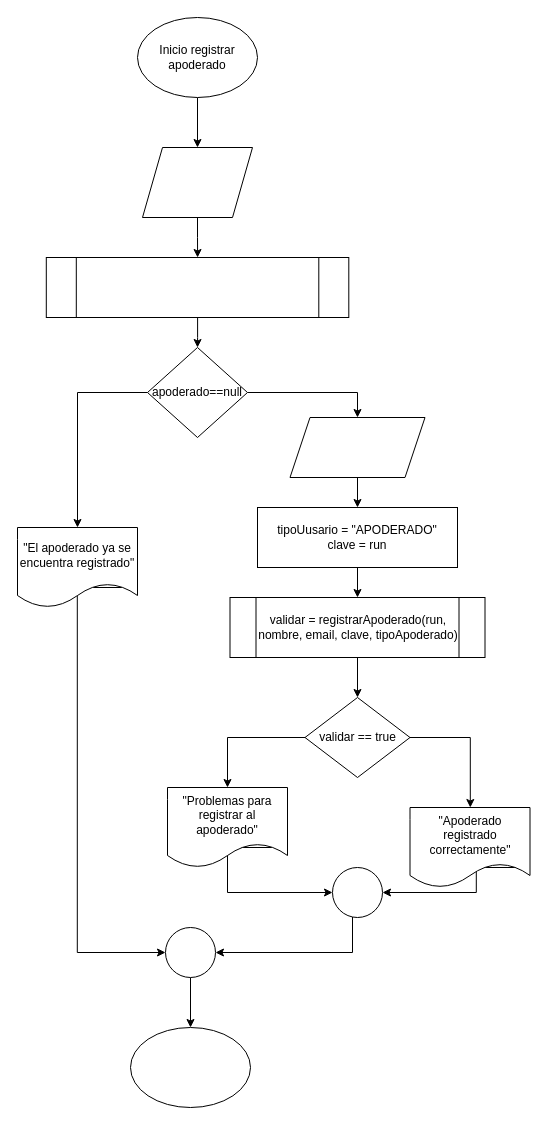
The diagram is 556 pixels wide and 1125 high, and some of its shapes have lost their labels. The shapes that lost their labels are listed below. From the top down, each one's centre as x and y in pixels, then its label:
At (x=197, y=182): "runApoderado".
At (x=197, y=287): "apoderado = validarExistenciaApoderado(runApoderado)".
At (x=357, y=447): "nombreApoderado, email".
At (x=190, y=1067): "Fin".
